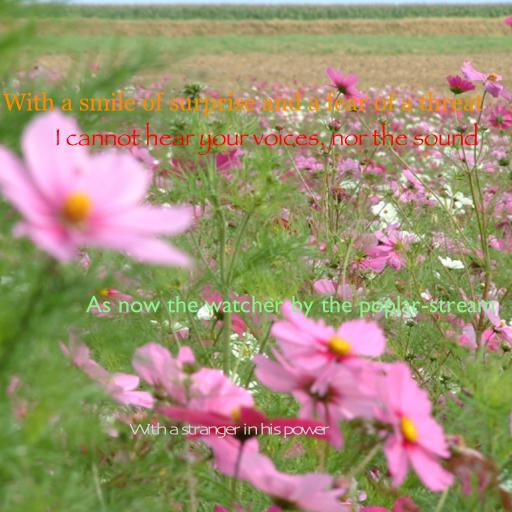Georgia: (3, 92, 483, 116)
Gill Sans: (86, 295, 496, 318)
Papyrus: (55, 122, 479, 156)
Skia: (128, 422, 328, 438)
